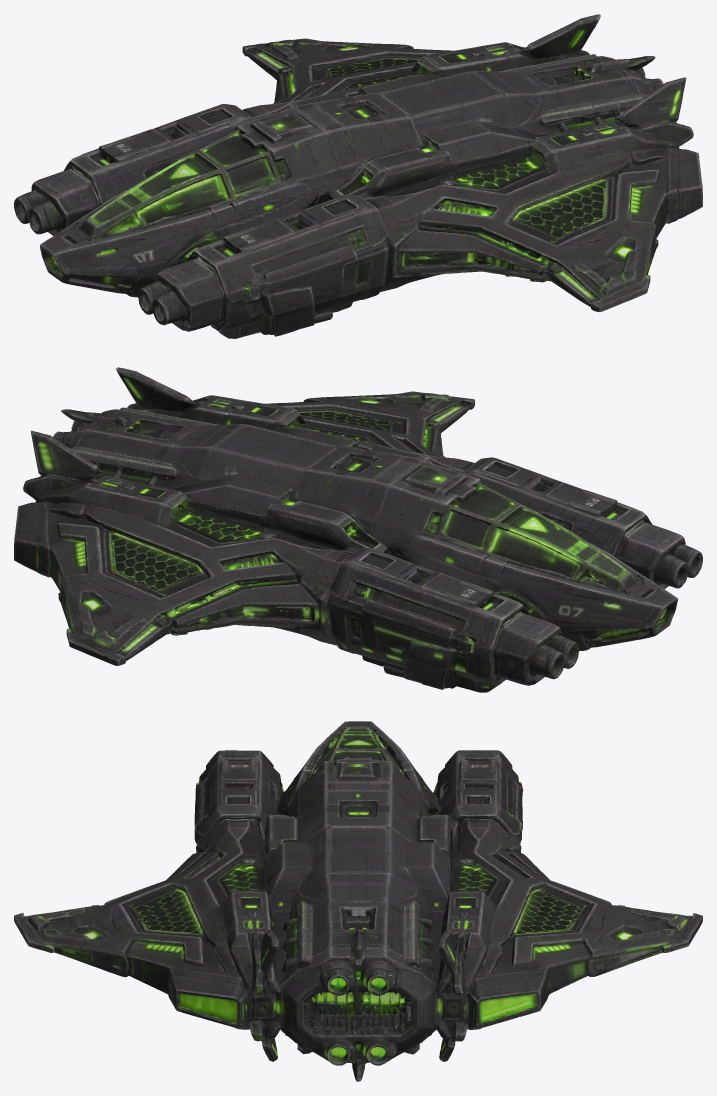
File: slayer.glb
The picture shows the model from 3 angles, top to bottom: view 1: azimuth 30°, elevation 25°; view 2: azimuth 150°, elevation 25°; view 3: azimuth 270°, elevation 25°; orthographic projection. The views are drawn at different scales.
Visible parts, largest first — view 1: mesh_0; view 2: mesh_0; view 3: mesh_0.
Boxes of the visible parts, x1=… form: mesh_0: x1=14, y1=14, x2=702, y2=338; mesh_0: x1=14, y1=367, x2=702, y2=692; mesh_0: x1=14, y1=721, x2=702, y2=1081.
Bounding box in the file's own units: 1.87 × 0.4925 × 1.9.
Materials: 1 (1 with a texture image).
